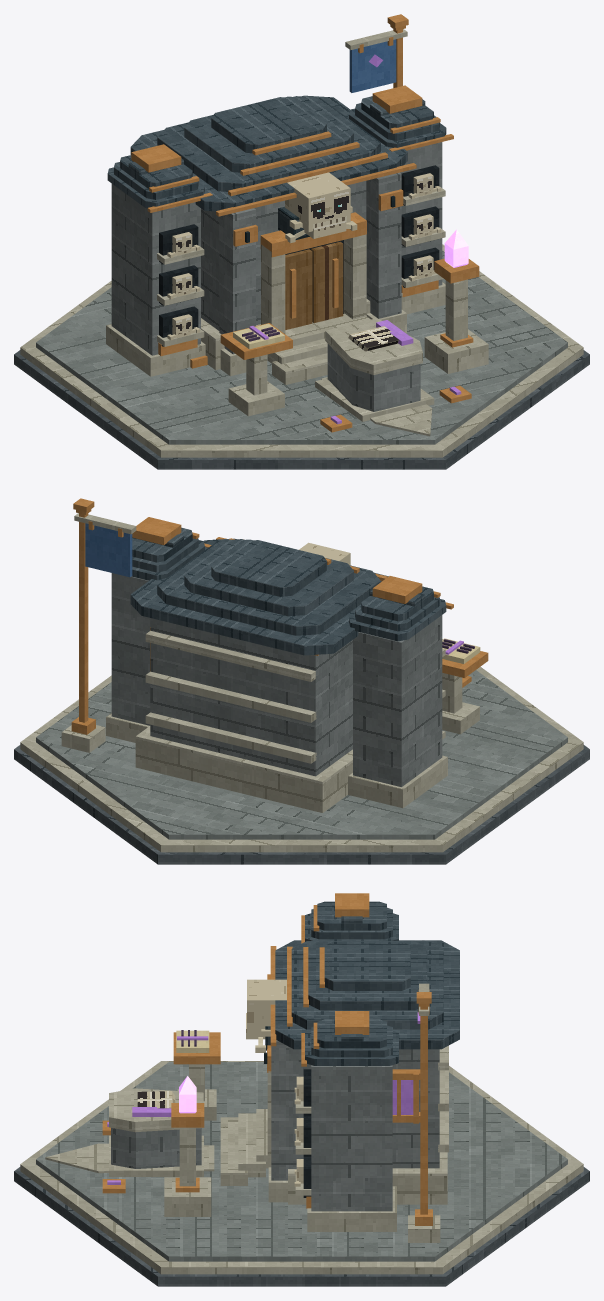
File: dwarf_necromancy_ossuary_hex_v1.glb
The picture shows the model from 3 angles, top to bottom: view 1: azimuth 30°, elevation 25°; view 2: azimuth 150°, elevation 25°; view 3: azimuth 270°, elevation 25°; orthographic projection.
Visible parts, largest first — view 1: Dwarf_Necromancy_Ossuary_Hex_V1_Foundation, Dwarf_Necromancy_Ossuary_Hex_V1_Hall, Dwarf_Necromancy_Ossuary_Hex_V1_Roofs, Dwarf_Necromancy_Ossuary_Hex_V1_Focus, Dwarf_Necromancy_Ossuary_Hex_V1_Training, Dwarf_Necromancy_Ossuary_Hex_V1_Details, Dwarf_Necromancy_Ossuary_Hex_V1_Courtyard, Dwarf_Necromancy_Ossuary_Hex_V1_Faction; view 2: Dwarf_Necromancy_Ossuary_Hex_V1_Hall, Dwarf_Necromancy_Ossuary_Hex_V1_Foundation, Dwarf_Necromancy_Ossuary_Hex_V1_Roofs, Dwarf_Necromancy_Ossuary_Hex_V1_Details, Dwarf_Necromancy_Ossuary_Hex_V1_Faction, Dwarf_Necromancy_Ossuary_Hex_V1_Training, Dwarf_Necromancy_Ossuary_Hex_V1_Focus; view 3: Dwarf_Necromancy_Ossuary_Hex_V1_Foundation, Dwarf_Necromancy_Ossuary_Hex_V1_Roofs, Dwarf_Necromancy_Ossuary_Hex_V1_Hall, Dwarf_Necromancy_Ossuary_Hex_V1_Training, Dwarf_Necromancy_Ossuary_Hex_V1_Focus, Dwarf_Necromancy_Ossuary_Hex_V1_Details, Dwarf_Necromancy_Ossuary_Hex_V1_Courtyard, Dwarf_Necromancy_Ossuary_Hex_V1_Faction.
Part boxes in pixels (<box>): Dwarf_Necromancy_Ossuary_Hex_V1_Foundation: <box>14,244,589,469</box>; Dwarf_Necromancy_Ossuary_Hex_V1_Hall: <box>106,142,445,376</box>; Dwarf_Necromancy_Ossuary_Hex_V1_Roofs: <box>107,85,453,216</box>; Dwarf_Necromancy_Ossuary_Hex_V1_Focus: <box>157,165,488,373</box>; Dwarf_Necromancy_Ossuary_Hex_V1_Training: <box>190,318,434,421</box>; Dwarf_Necromancy_Ossuary_Hex_V1_Details: <box>219,172,471,432</box>; Dwarf_Necromancy_Ossuary_Hex_V1_Courtyard: <box>267,313,432,436</box>; Dwarf_Necromancy_Ossuary_Hex_V1_Faction: <box>345,14,408,92</box>; Dwarf_Necromancy_Ossuary_Hex_V1_Hall: <box>106,573,447,812</box>; Dwarf_Necromancy_Ossuary_Hex_V1_Foundation: <box>14,639,589,864</box>; Dwarf_Necromancy_Ossuary_Hex_V1_Roofs: <box>130,517,453,655</box>; Dwarf_Necromancy_Ossuary_Hex_V1_Details: <box>145,627,471,763</box>; Dwarf_Necromancy_Ossuary_Hex_V1_Faction: <box>61,498,136,752</box>; Dwarf_Necromancy_Ossuary_Hex_V1_Training: <box>442,638,488,734</box>; Dwarf_Necromancy_Ossuary_Hex_V1_Focus: <box>261,540,445,739</box>; Dwarf_Necromancy_Ossuary_Hex_V1_Foundation: <box>14,1061,589,1286</box>; Dwarf_Necromancy_Ossuary_Hex_V1_Roofs: <box>270,893,459,1066</box>; Dwarf_Necromancy_Ossuary_Hex_V1_Hall: <box>267,1049,447,1231</box>; Dwarf_Necromancy_Ossuary_Hex_V1_Training: <box>109,1030,220,1176</box>; Dwarf_Necromancy_Ossuary_Hex_V1_Focus: <box>164,979,311,1216</box>; Dwarf_Necromancy_Ossuary_Hex_V1_Details: <box>102,974,448,1202</box>; Dwarf_Necromancy_Ossuary_Hex_V1_Courtyard: <box>45,1109,271,1185</box>; Dwarf_Necromancy_Ossuary_Hex_V1_Faction: <box>408,983,440,1242</box>.
Size of the model in its own units: 1.59 by 0.9262 by 1.84.
1 material, 1 textured.
